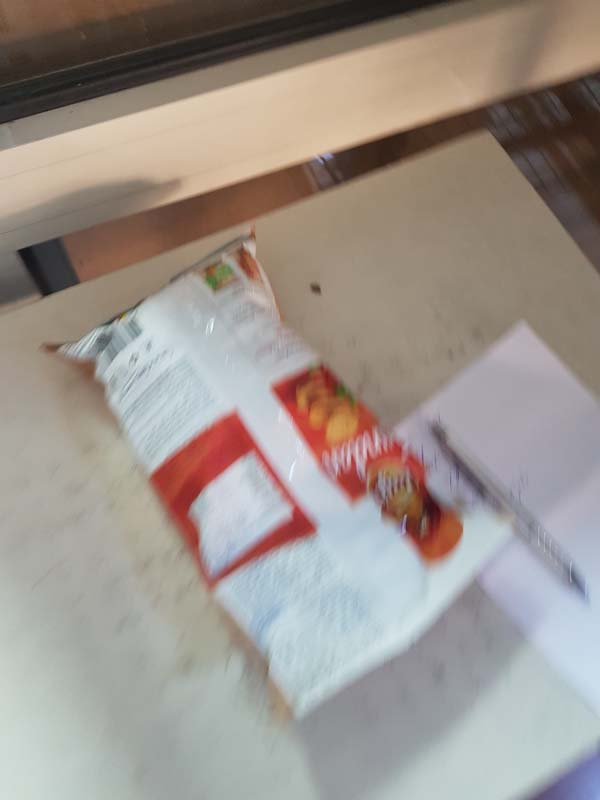laysfirindan: (34, 228, 527, 737)
